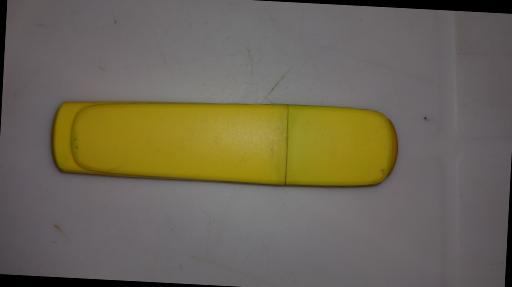Highlighter: (50, 94, 396, 192)
